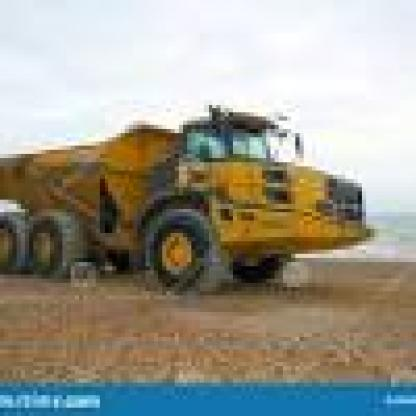dump_truck: (146, 12, 412, 412)
